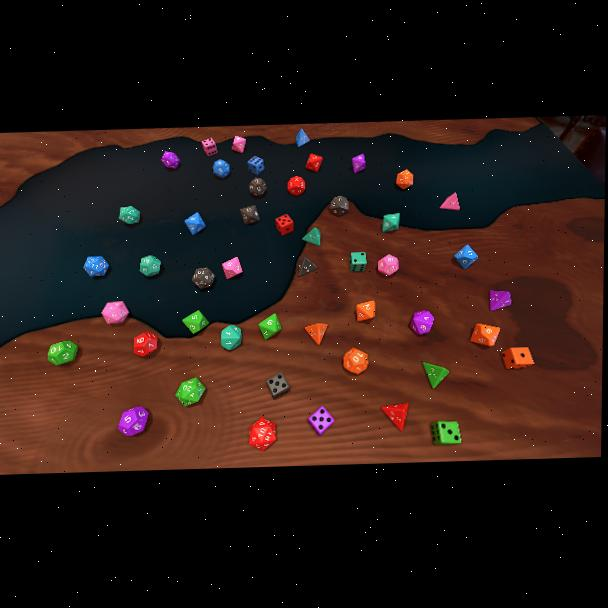d10: (408, 310, 436, 337), (470, 323, 499, 348), (220, 255, 244, 283), (454, 243, 478, 269), (182, 310, 208, 334), (221, 325, 241, 351), (286, 176, 306, 196), (329, 196, 348, 216)
d12: (118, 407, 149, 437), (47, 341, 78, 365), (343, 347, 368, 375), (133, 331, 159, 356), (140, 256, 162, 277), (377, 254, 399, 275), (248, 177, 266, 198), (213, 160, 230, 179)
d20: (248, 417, 277, 451), (175, 378, 205, 407), (101, 302, 128, 325), (83, 256, 109, 278), (191, 268, 214, 290), (118, 206, 139, 224), (161, 151, 180, 169), (396, 169, 412, 189)
d4: (380, 404, 407, 433), (422, 362, 448, 390), (304, 320, 330, 345), (489, 290, 511, 310), (299, 255, 317, 276), (440, 192, 459, 211), (304, 227, 321, 246), (296, 128, 310, 148)
d6: (500, 346, 535, 371), (432, 419, 463, 444), (308, 405, 333, 435), (265, 371, 289, 398), (273, 213, 296, 238), (349, 251, 367, 272), (247, 156, 264, 175), (201, 138, 217, 156)
d8: (260, 311, 282, 338), (184, 213, 205, 235), (356, 301, 375, 321), (240, 206, 260, 225), (382, 214, 399, 233), (352, 153, 367, 173), (306, 152, 321, 171), (232, 136, 246, 154)
